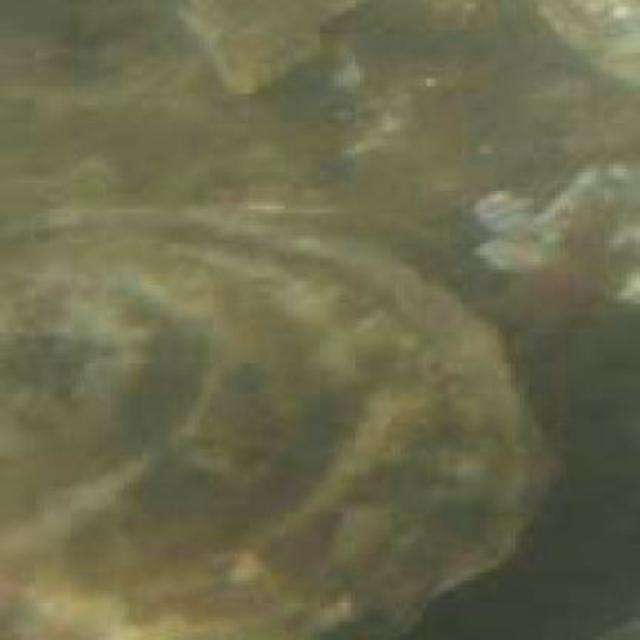Oyster-Closed: (0, 193, 546, 640)
